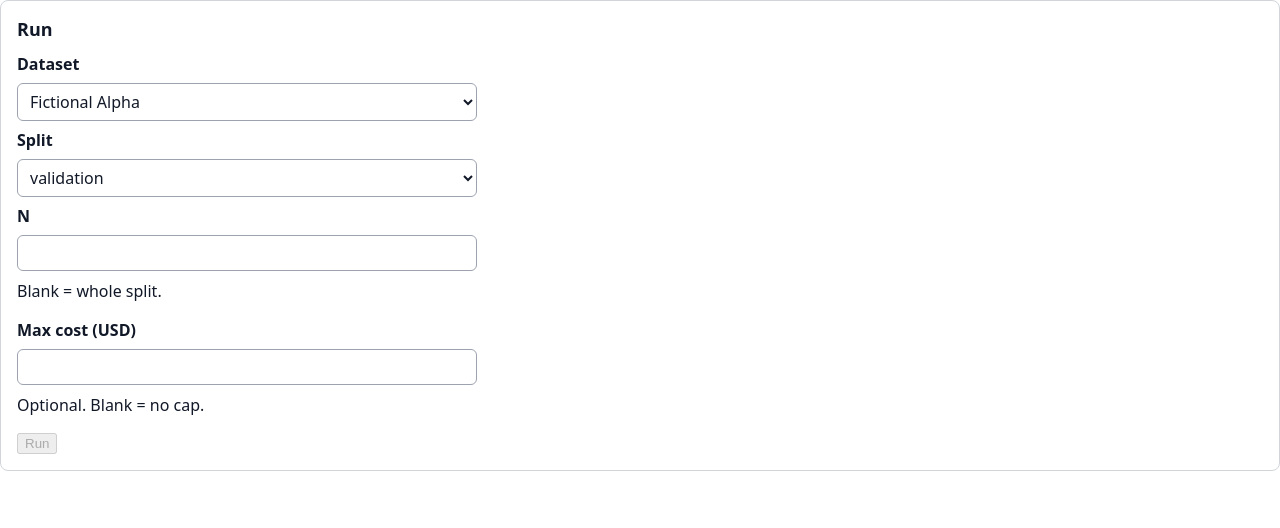
RunPanel form › rejects N=0
Type "0" into the field labelled "N".
click(247, 253); type("0")  # box [17,235,477,271]
Wait 400 ms
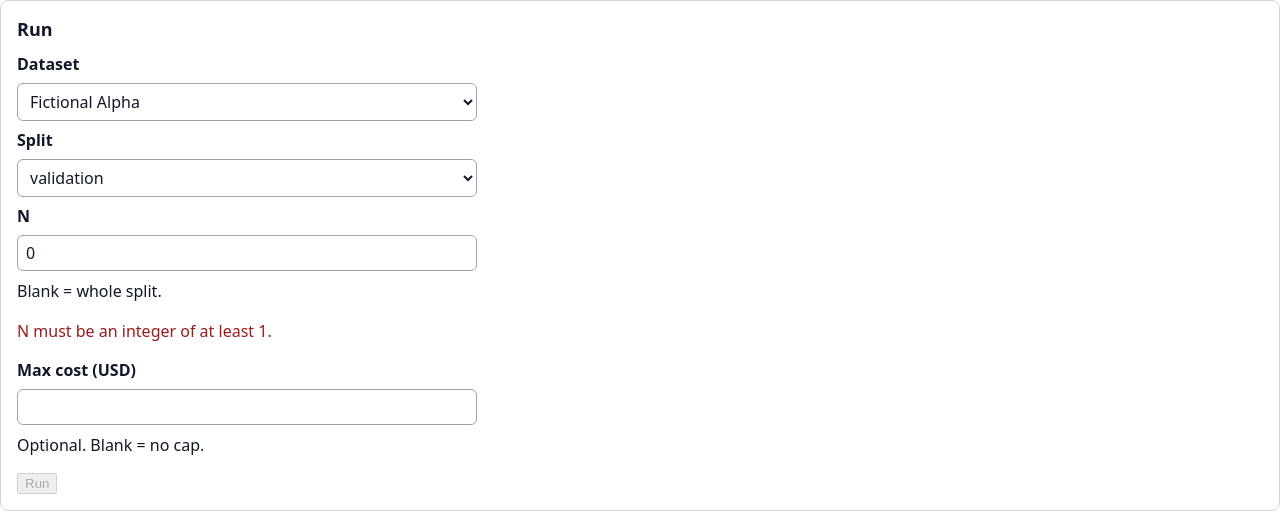
Expected: the button "Run" is disabled, [17,473,58,494]
Result: the text "N must be an integer of at least 1." is shown at [17,320,272,342]
